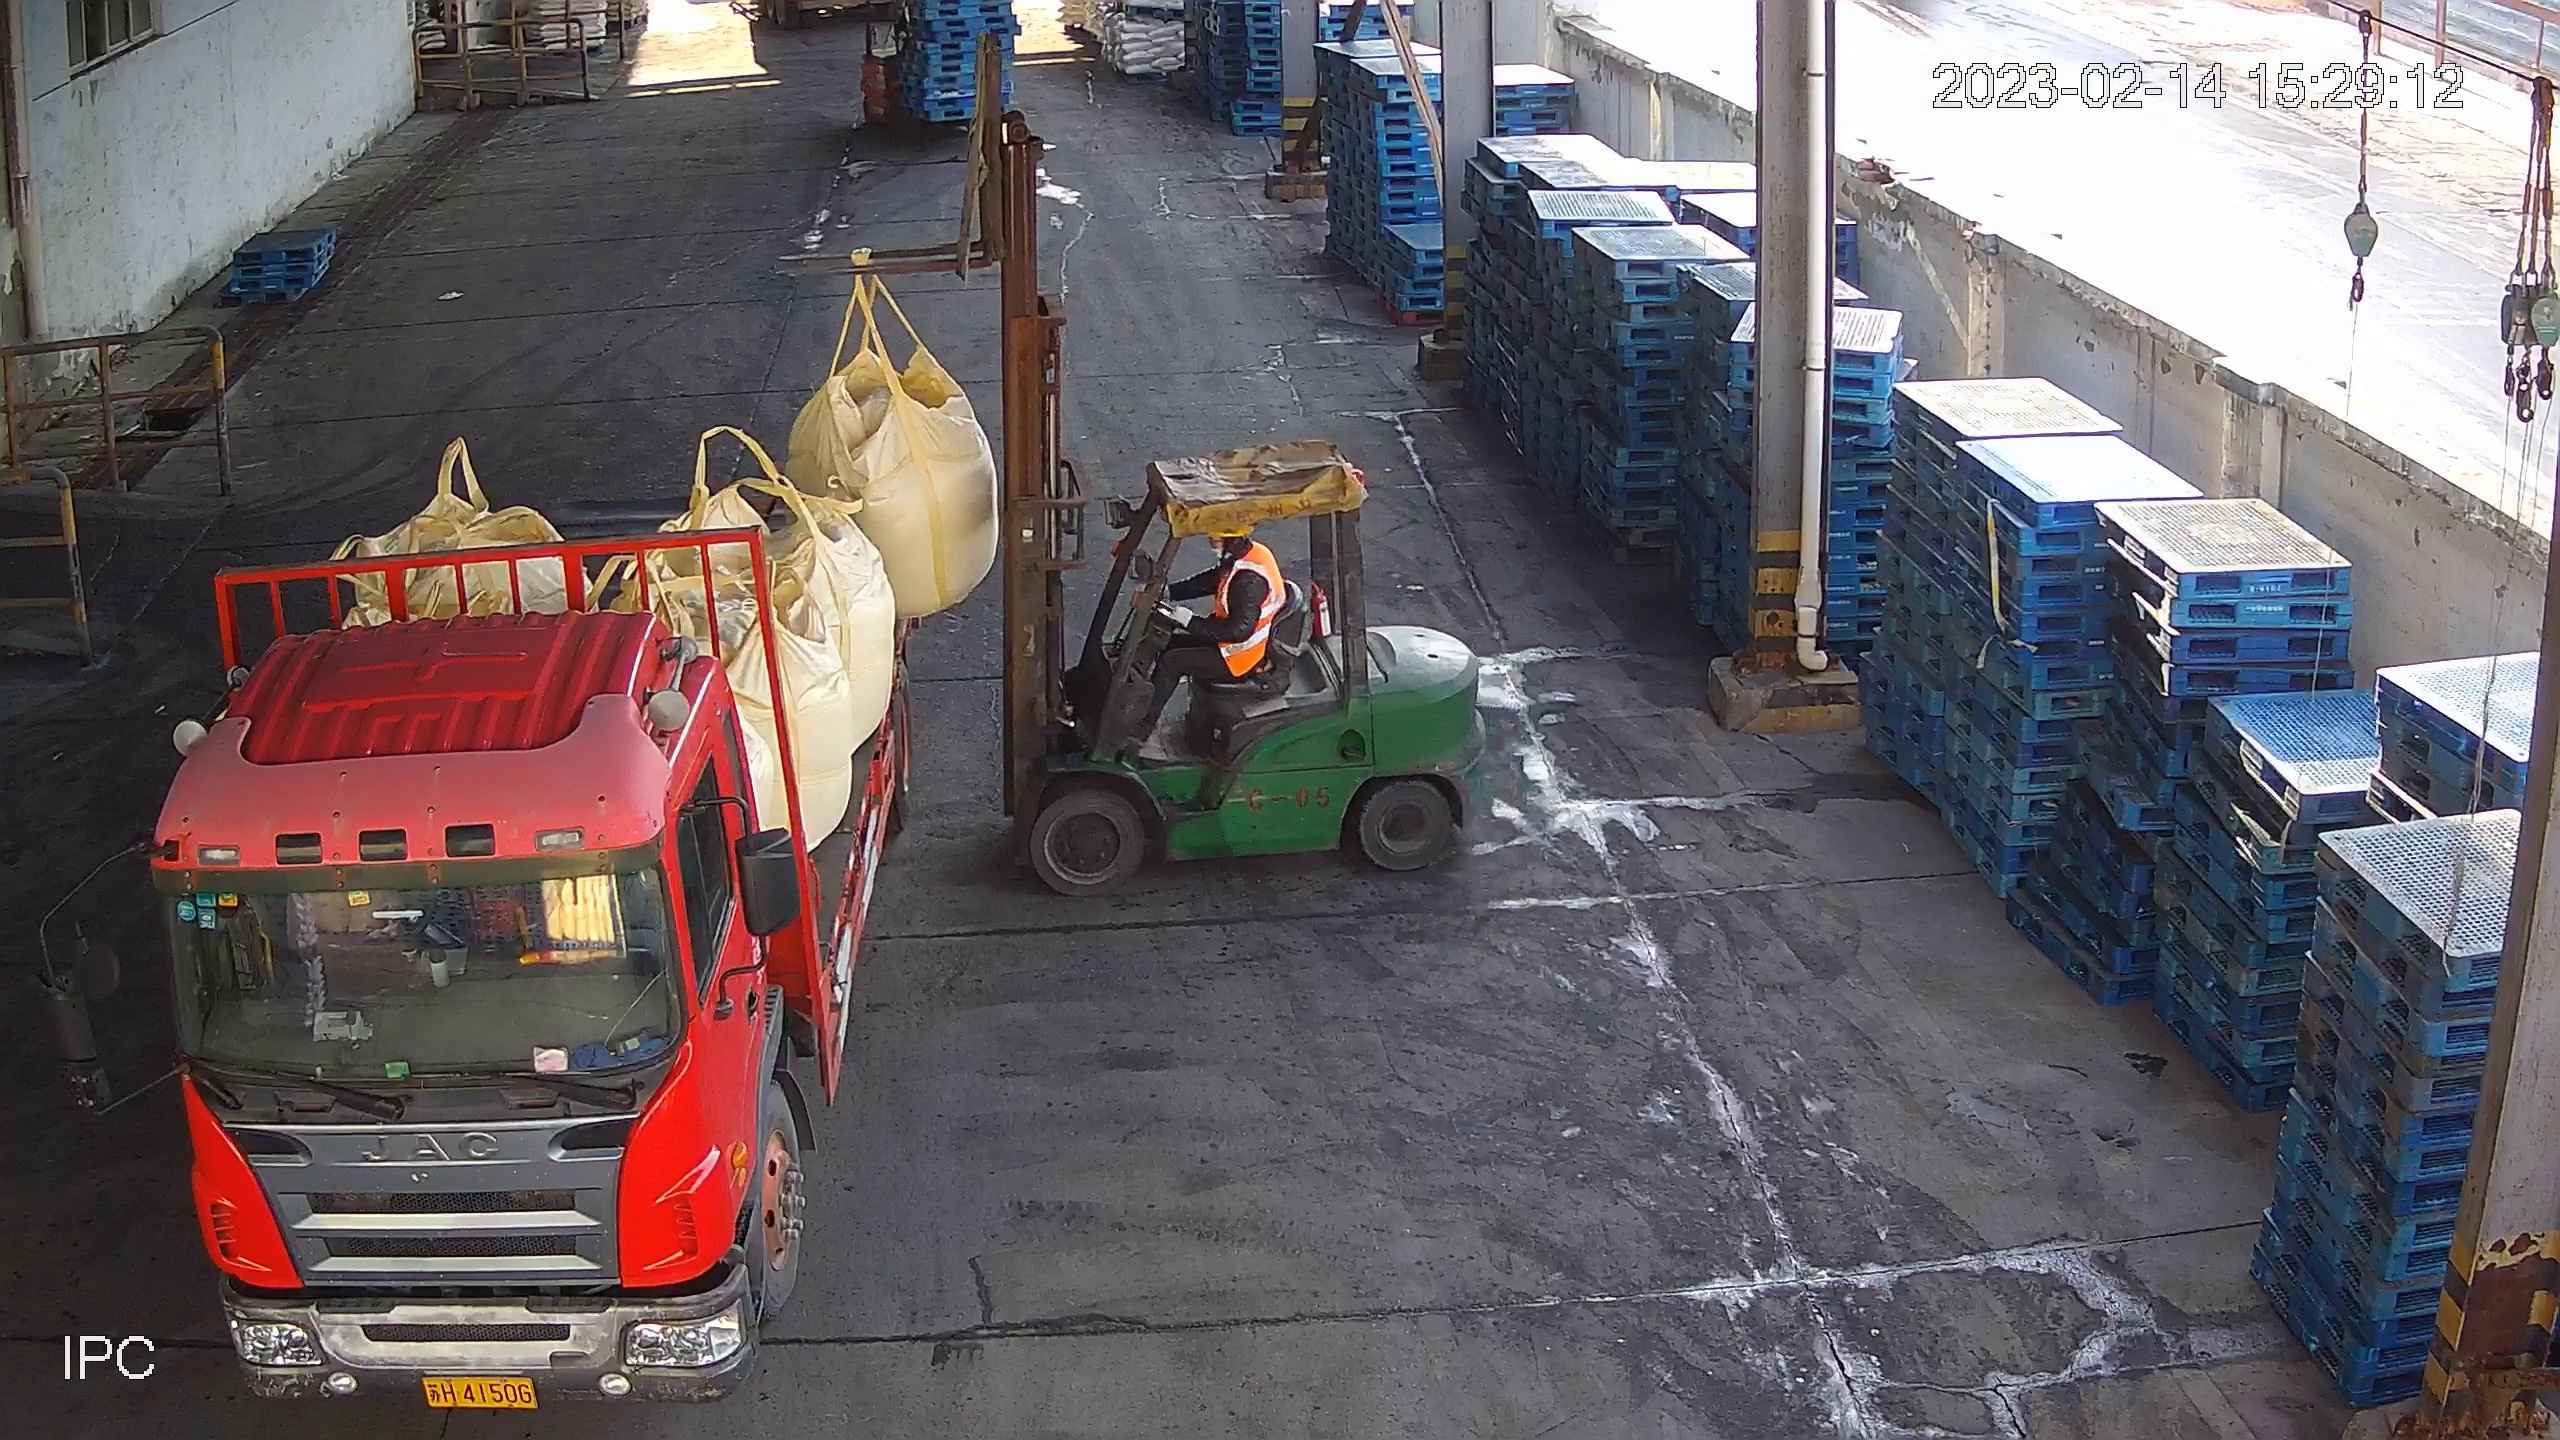people: (1140, 526, 1287, 739)
truck: (31, 500, 914, 1408)
